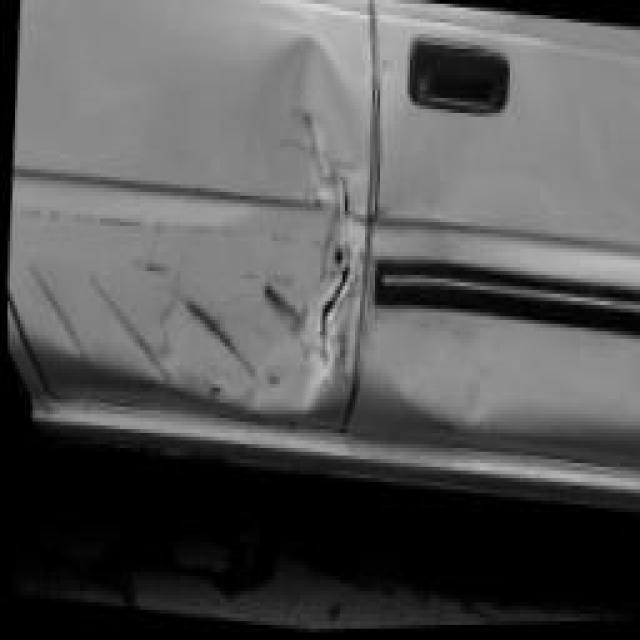Door: (0, 0, 381, 448)
